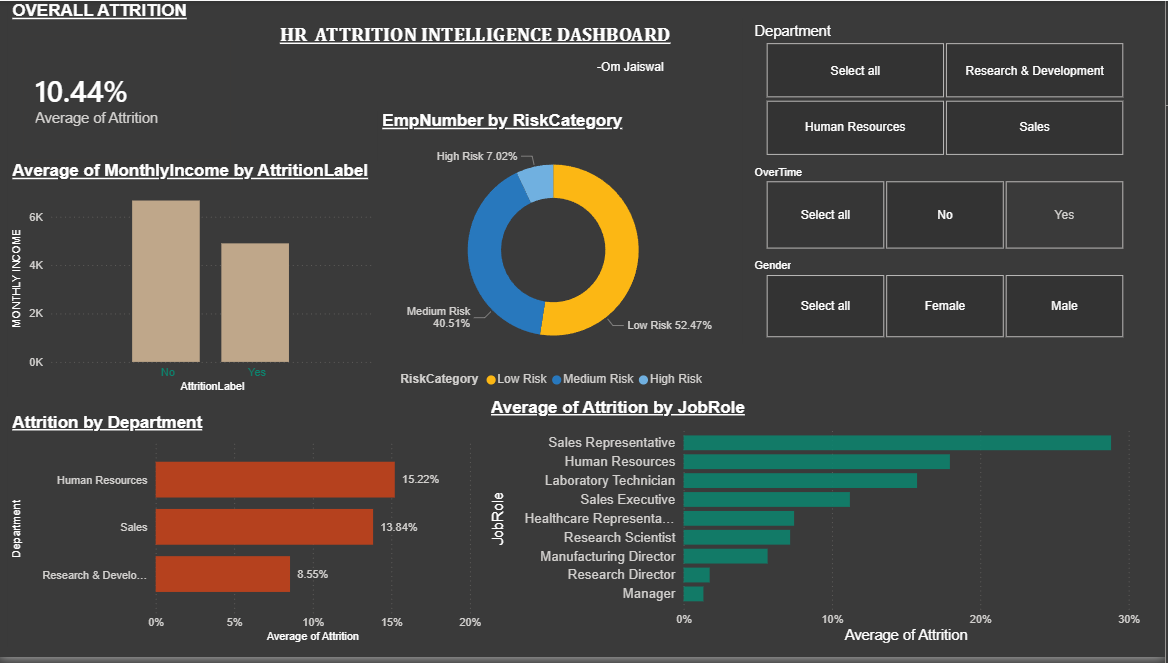

What the dashboard file says about the page in this screenshot:
{"tool":"powerbi","page":{"name":"Page 1","canvas":[1280,720],"ordinal":0},"visuals":[{"type":"cardVisual","title":"OVERALL ATTRITION","fields":{"Data":["Avg(hr_attrition_clean.Attrition)"]},"box":[9.6,0,262.1,192.1],"z":0},{"type":"clusteredBarChart","title":" Attrition by Department","fields":{"Category":["hr_attrition_clean.Department"],"Y":["Avg(hr_attrition_clean.Attrition)"]},"box":[9.6,451.5,525.6,258],"z":1000},{"type":"clusteredBarChart","fields":{"Category":["hr_attrition_clean.JobRole"],"Y":["Avg(hr_attrition_clean.Attrition)"]},"box":[535.2,435,723.2,274.4],"z":2000},{"type":"donutChart","title":" EmpNumber by RiskCategory","fields":{"Category":["hr_attrition_clean.RiskCategory"],"Y":["CountNonNull(hr_attrition_clean.EmployeeNumber)"]},"box":[415.8,120.8,385.6,314.2],"z":3000},{"type":"clusteredColumnChart","fields":{"Category":["hr_attrition_clean.AttritionLabel"],"Y":["Avg(hr_attrition_clean.MonthlyIncome)"]},"box":[9.6,175.6,406.2,259.3],"z":4000},{"type":"slicer","title":"DEPARTMENT","fields":{"Values":["hr_attrition_clean.Department"]},"box":[816.5,19.2,441.9,156.4],"z":5000},{"type":"slicer","fields":{"Values":["hr_attrition_clean.OverTime"]},"box":[816.5,175.6,441.9,102.9],"z":5001},{"type":"slicer","fields":{"Values":["hr_attrition_clean.Gender"]},"box":[816.5,278.6,441.9,97.4],"z":5002},{"type":"textbox","box":[303.3,19.2,462.4,78.2],"z":5003}]}

Visuals, with their boxes in screenshot pixels (x1, y1, x2, y2), scaled from the page's 1280x720 canvas onto the 1168x663 screenshot:
"OVERALL ATTRITION" cardVisual: [left=9, top=0, right=248, bottom=177]
" Attrition by Department" clusteredBarChart: [left=9, top=416, right=488, bottom=653]
clusteredBarChart - hr_attrition_clean.JobRole x Avg(hr_attrition_clean.Attrition): [left=488, top=401, right=1148, bottom=653]
" EmpNumber by RiskCategory" donutChart: [left=379, top=111, right=731, bottom=401]
clusteredColumnChart - hr_attrition_clean.AttritionLabel x Avg(hr_attrition_clean.MonthlyIncome): [left=9, top=162, right=379, bottom=400]
"DEPARTMENT" slicer: [left=745, top=18, right=1148, bottom=162]
slicer - hr_attrition_clean.OverTime: [left=745, top=162, right=1148, bottom=256]
slicer - hr_attrition_clean.Gender: [left=745, top=257, right=1148, bottom=346]
textbox: [left=277, top=18, right=699, bottom=90]
